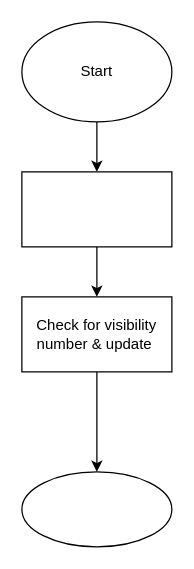
Image size: 194x569. Some labels were removed from this diagram. The centre of each missing label's shape, as x and y in pixels:
End: point (96, 509)
Fetch all eligible records for hier: point (96, 209)
